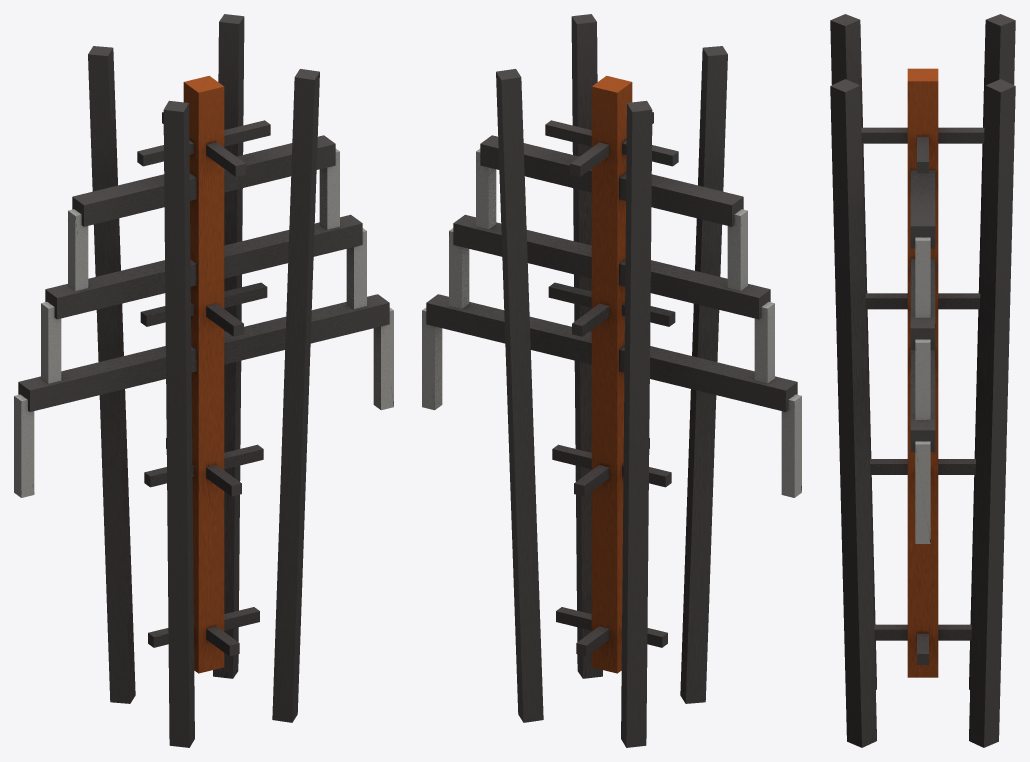
Rendered from pylon_2_kiln.glb.
3 views of the same model, side by side, from view 1: azimuth 30°, elevation 25°; view 2: azimuth 150°, elevation 25°; view 3: azimuth 270°, elevation 25° (orthographic). The views are drawn at different scales.
Parts seen in each view (by area): view 1: Cube; view 2: Cube; view 3: Cube.
Part boxes in pixels (bbox=[...]): Cube: bbox=[14, 14, 393, 747]; Cube: bbox=[422, 14, 801, 747]; Cube: bbox=[830, 14, 1015, 747].
Size of the model in its own units: 7.25 by 12.01 by 3.04.
Materials: 1 (1 with a texture image).
